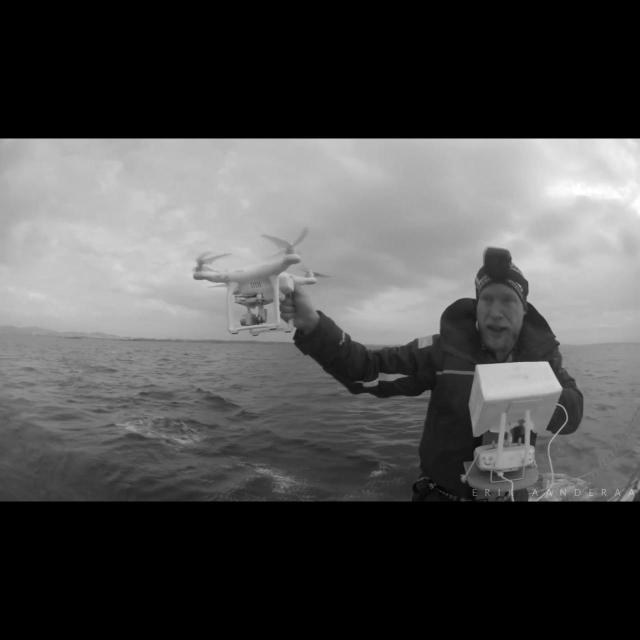Drons: (178, 222, 330, 342)
